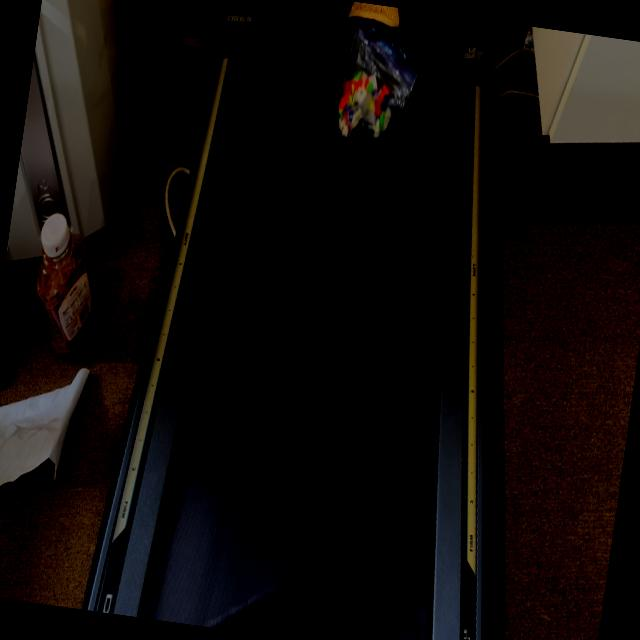Trash: (306, 16, 444, 172)
